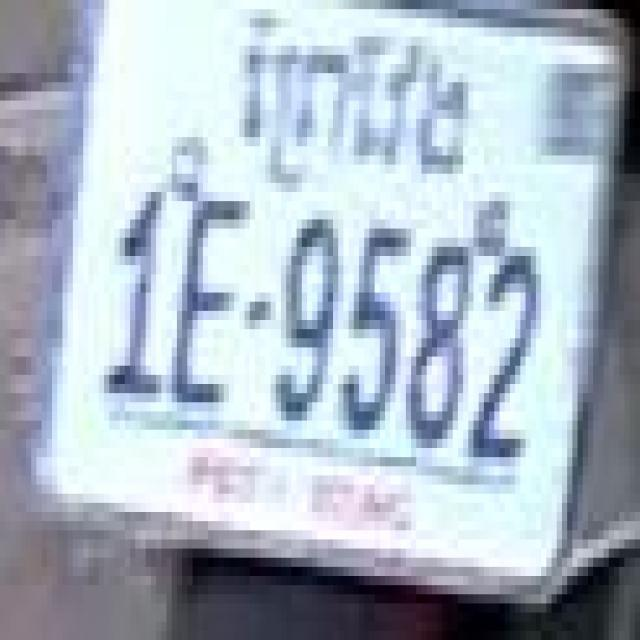Prey_Veng: (245, 9, 470, 190)
